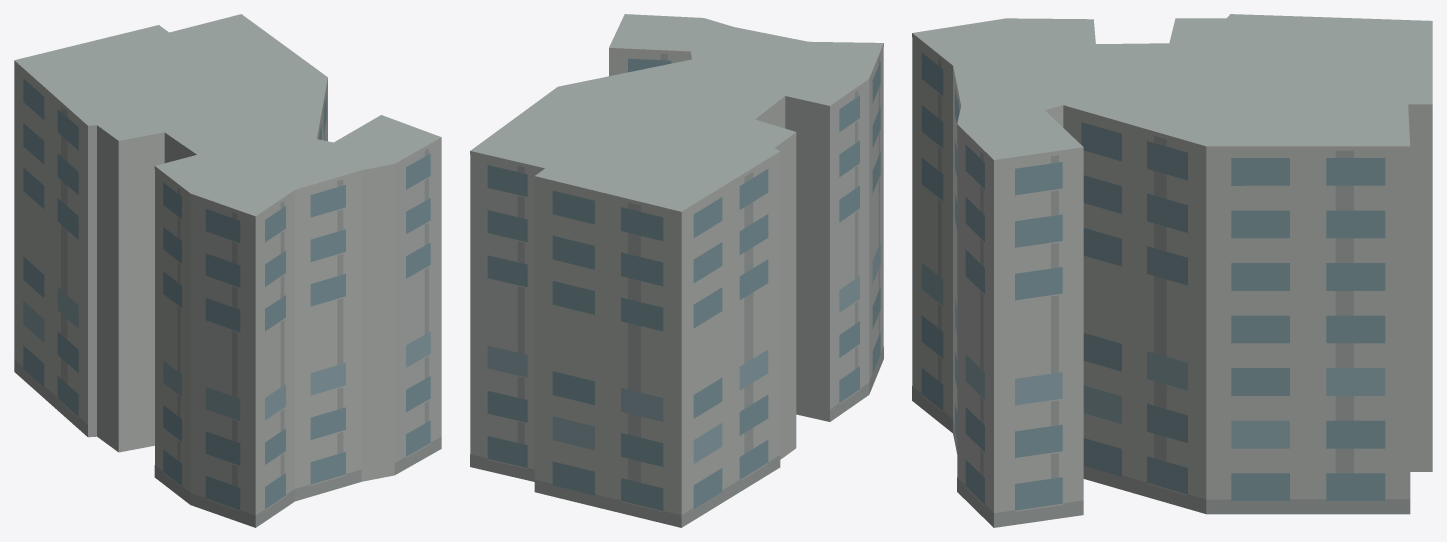
The model's file is survey-upis-33036185.glb.
The picture shows the model from 3 angles, left to right: view 1: azimuth 30°, elevation 25°; view 2: azimuth 150°, elevation 25°; view 3: azimuth 270°, elevation 25°; orthographic projection. The views are drawn at different scales.
Visible parts, largest first — view 1: survey-upis-33036185.tmp; view 2: survey-upis-33036185.tmp; view 3: survey-upis-33036185.tmp.
Part boxes in pixels (box(x1,y1,x2,y2)): survey-upis-33036185.tmp: box(14, 14, 441, 527); survey-upis-33036185.tmp: box(470, 14, 883, 527); survey-upis-33036185.tmp: box(912, 14, 1432, 527).
Bounding box in the file's own units: 17.39 × 20.4 × 26.18.
